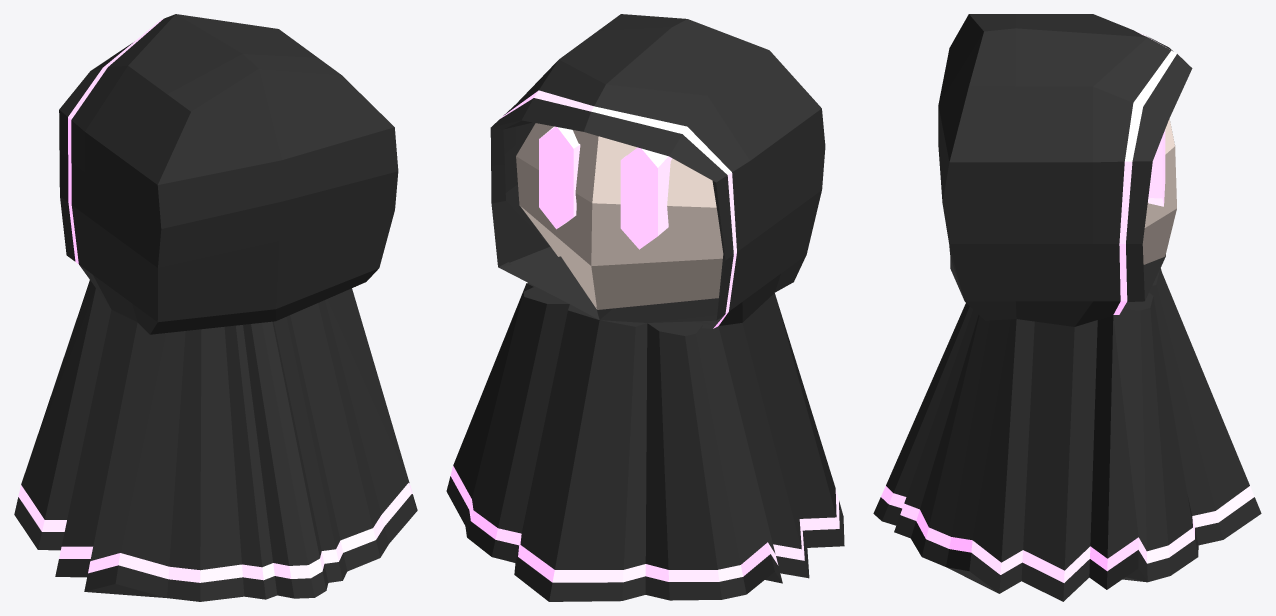
File: SassyTest.fbx
3 renders of one model, left to right at view 1: azimuth 30°, elevation 25°; view 2: azimuth 150°, elevation 25°; view 3: azimuth 270°, elevation 25°, orthographic.
Parts seen in each view (by area): view 1: Body; view 2: Body; view 3: Body.
Part boxes in pixels (x1,y1,x2,y2): Body: (14, 14, 417, 601); Body: (446, 14, 844, 601); Body: (873, 14, 1261, 601).
Size of the model in its own units: 2.81 by 2.87 by 4.04.
